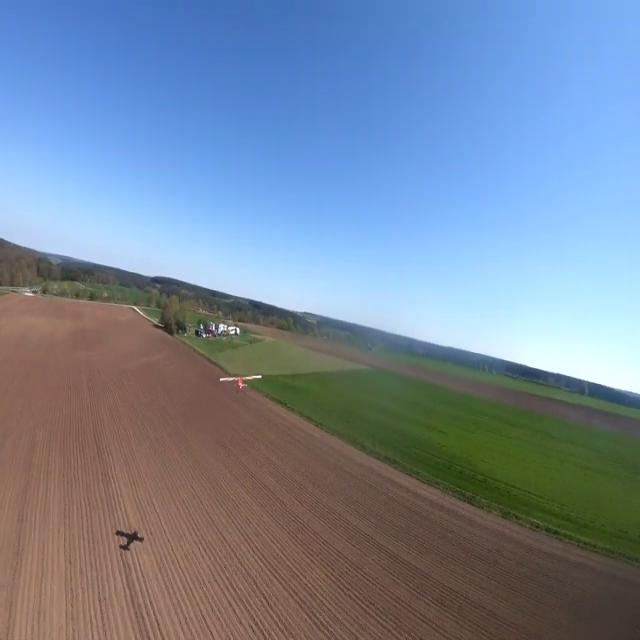iha: (219, 374, 261, 394)
